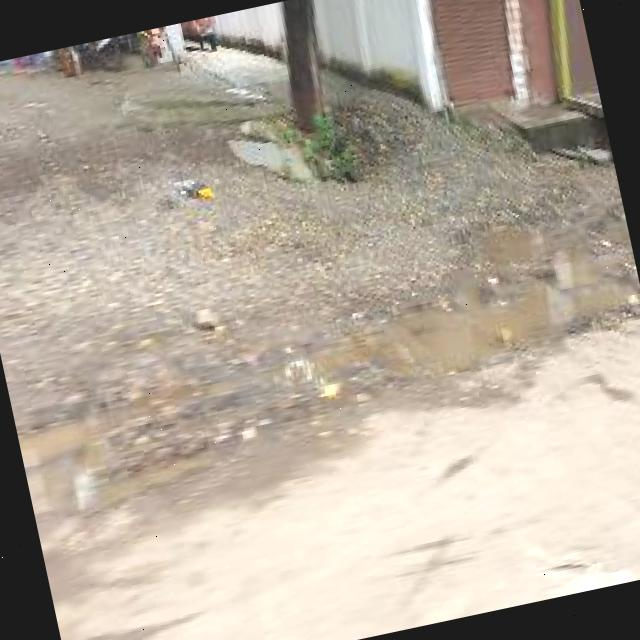waterlogging: (318, 195, 616, 402)
